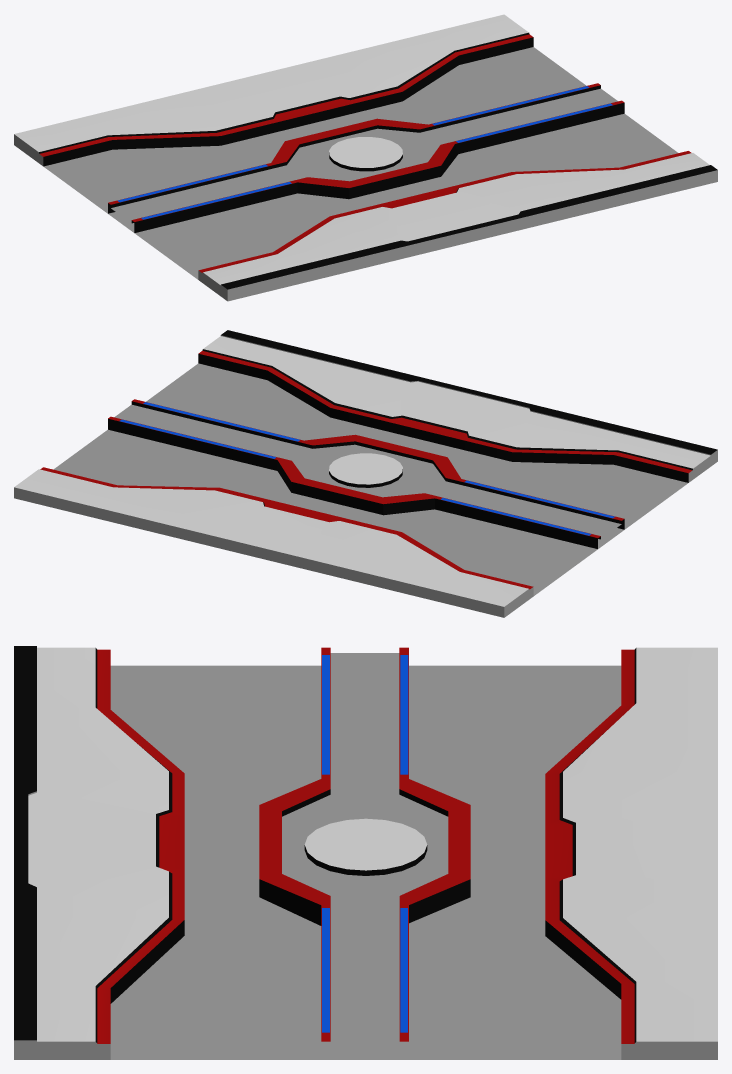
The model's file is floor.fbx.
3 views of the same model, one above another, from view 1: azimuth 30°, elevation 25°; view 2: azimuth 150°, elevation 25°; view 3: azimuth 270°, elevation 25° (orthographic). The views are drawn at different scales.
Parts seen in each view (by area): view 1: pCube5; view 2: pCube5; view 3: pCube5.
Boxes of the visible parts, left/top/right/bottom form: pCube5: left=14, top=14, right=717, bottom=301; pCube5: left=14, top=330, right=717, bottom=617; pCube5: left=14, top=646, right=717, bottom=1059.
Size of the model in its own units: 17.41 by 0.4034 by 13.14.
